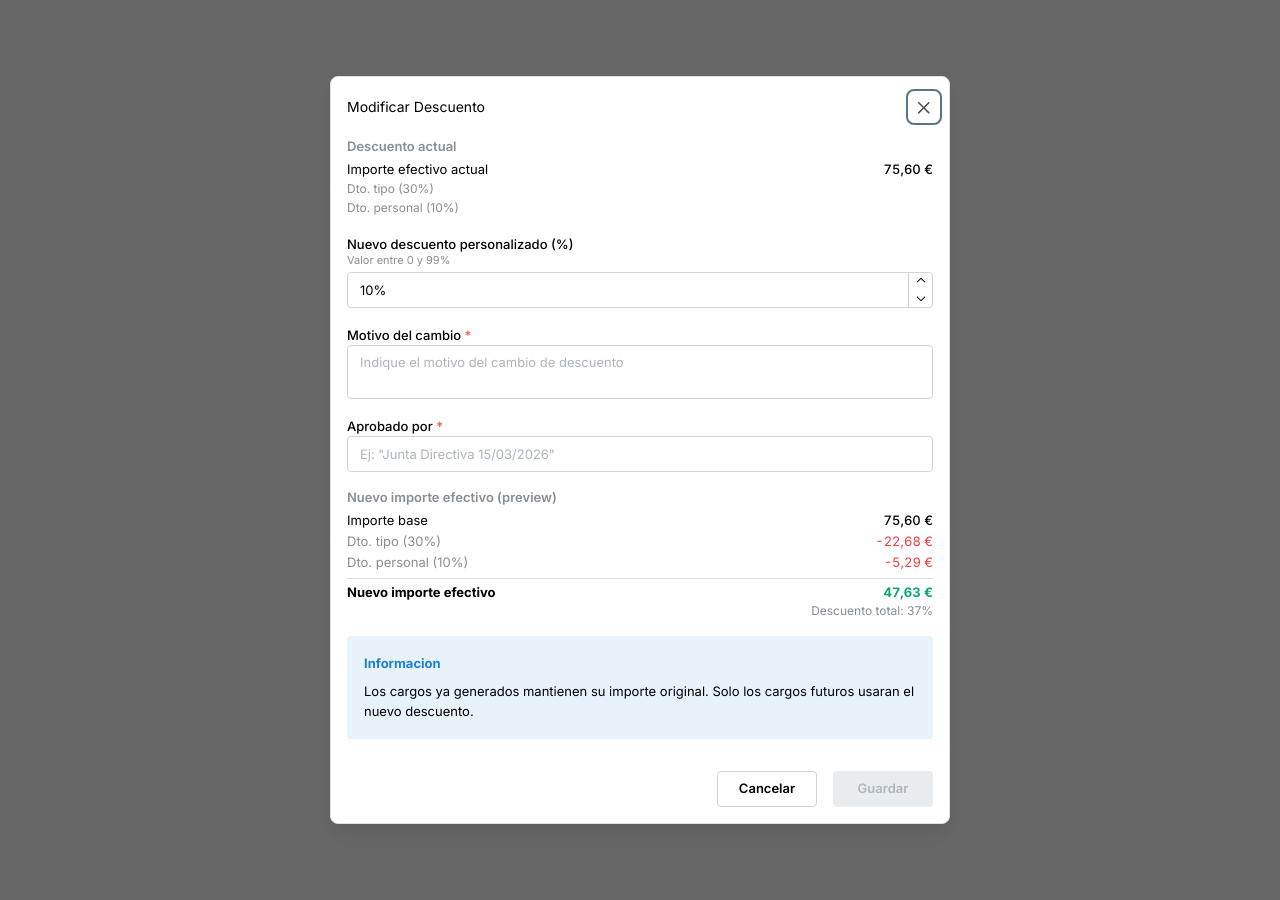
UpdateDiscountModal › validacion del formulario › deberia mostrar error de minimo cuando motivo tiene menos de 3 caracteres
The width and height of the screenshot is (1280, 900).
Type "ab" into the text box with placeholder "Indique el motivo del cambio de descuento" at (640, 372), box [347,345,933,398]
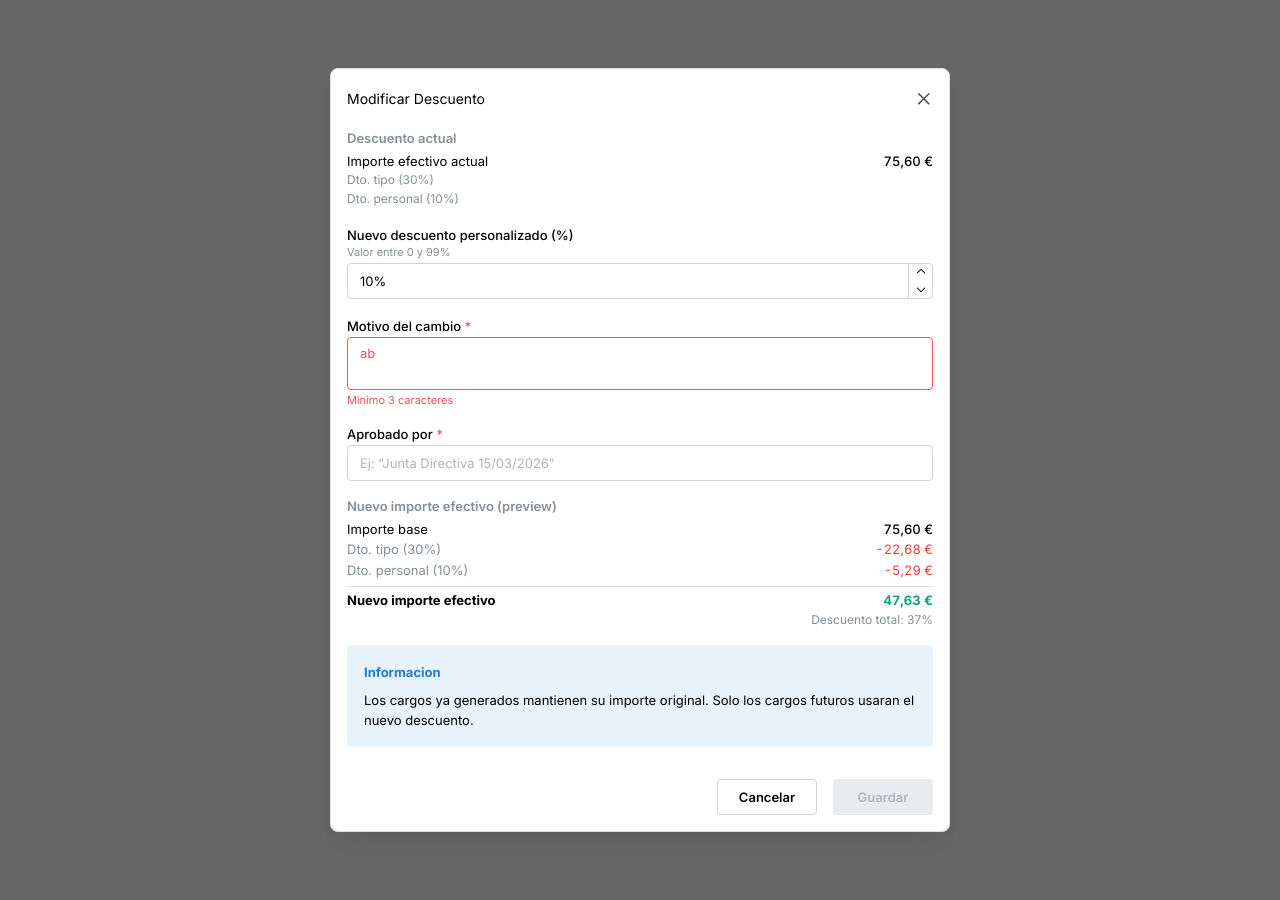
Expected: the text "Minimo 3 caracteres" is shown, [347,393,453,407]
